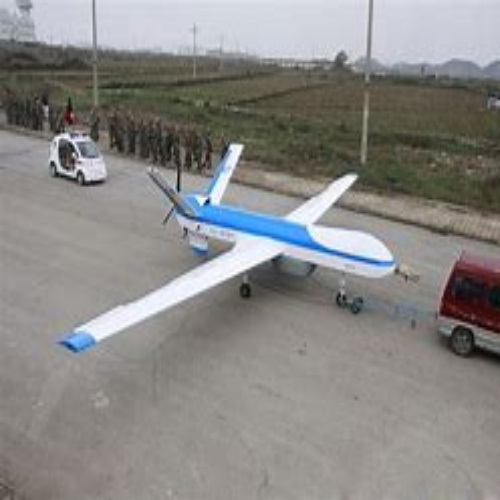uav734: (54, 142, 400, 353)
